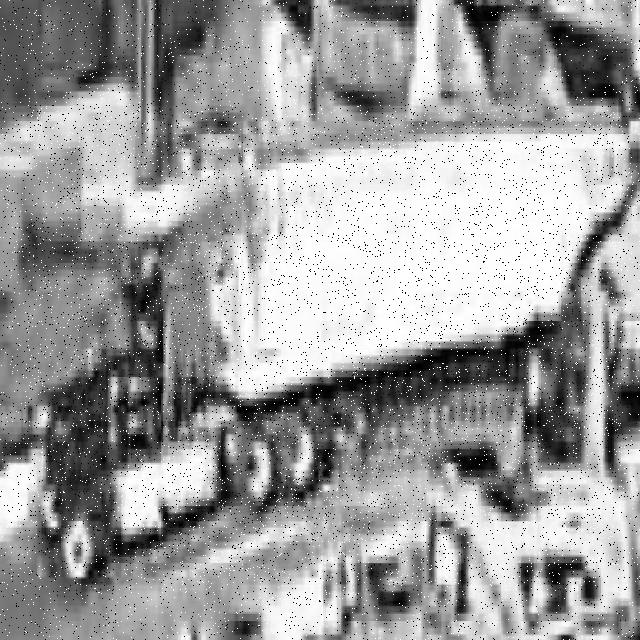Tractor Trailer: (27, 108, 629, 584)
